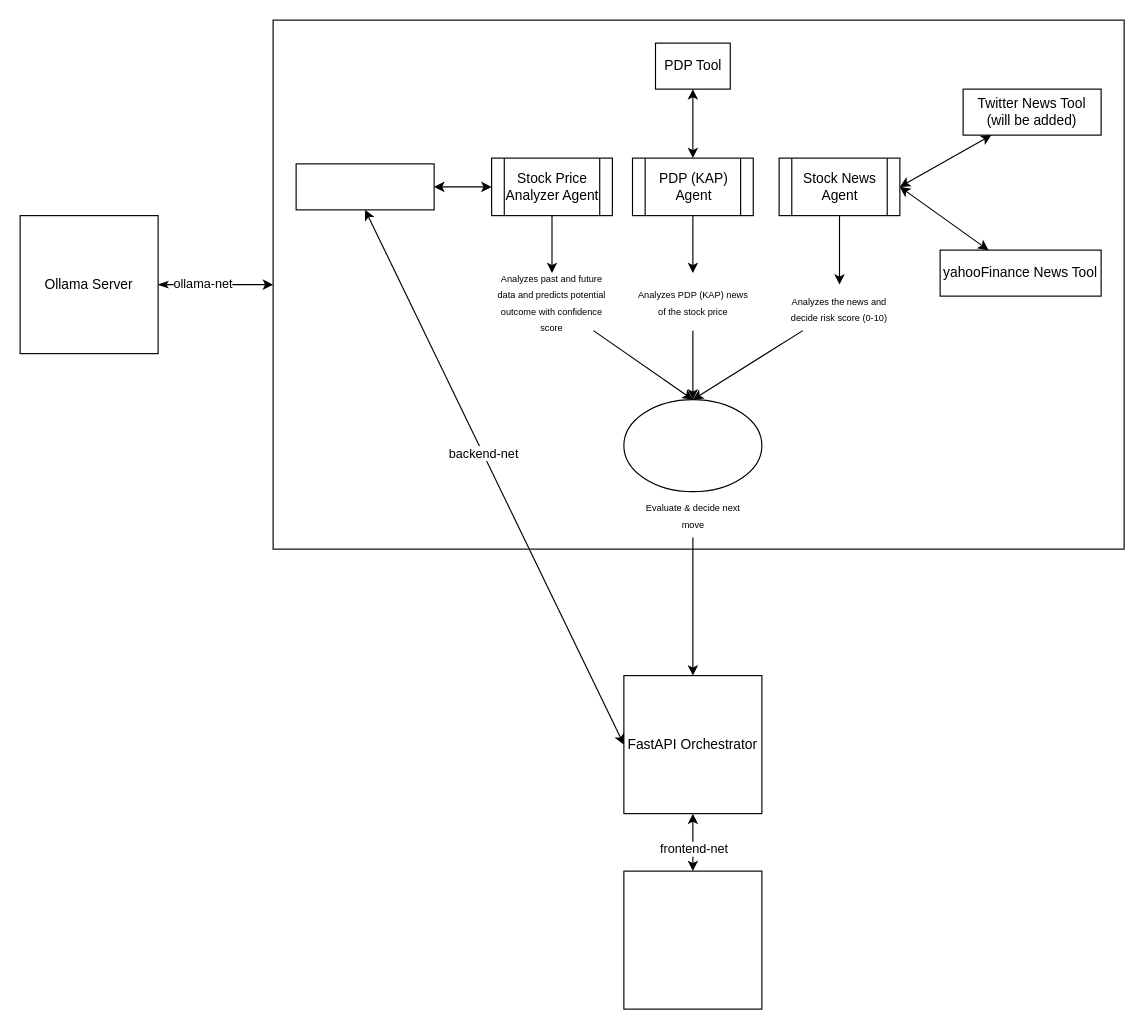
Some shapes in this 1144 by 1029 pixel diagram are drawn without their labels. Each missing label, with the box of its shape:
Agent Server: (272, 19, 1124, 549)
C# or React App (will be added): (623, 870, 762, 1009)
Stock Price Analyzer Tool: (295, 163, 434, 210)
Supervisor Agent: (623, 398, 762, 492)
